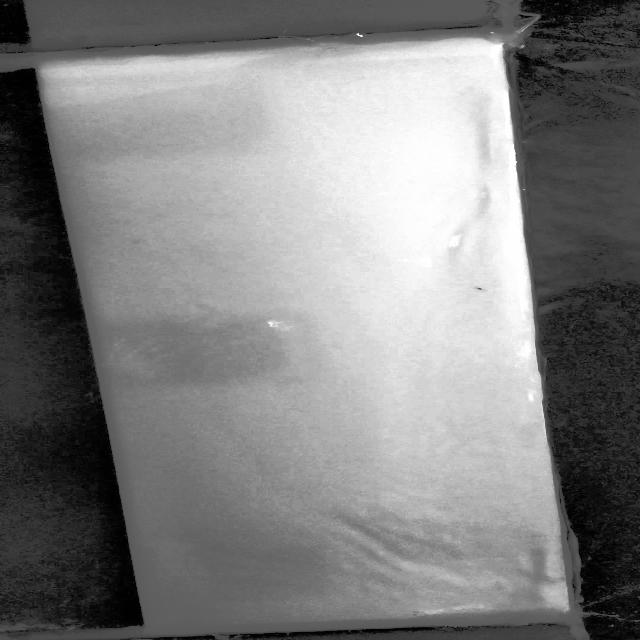shrimp: (462, 281, 498, 301)
